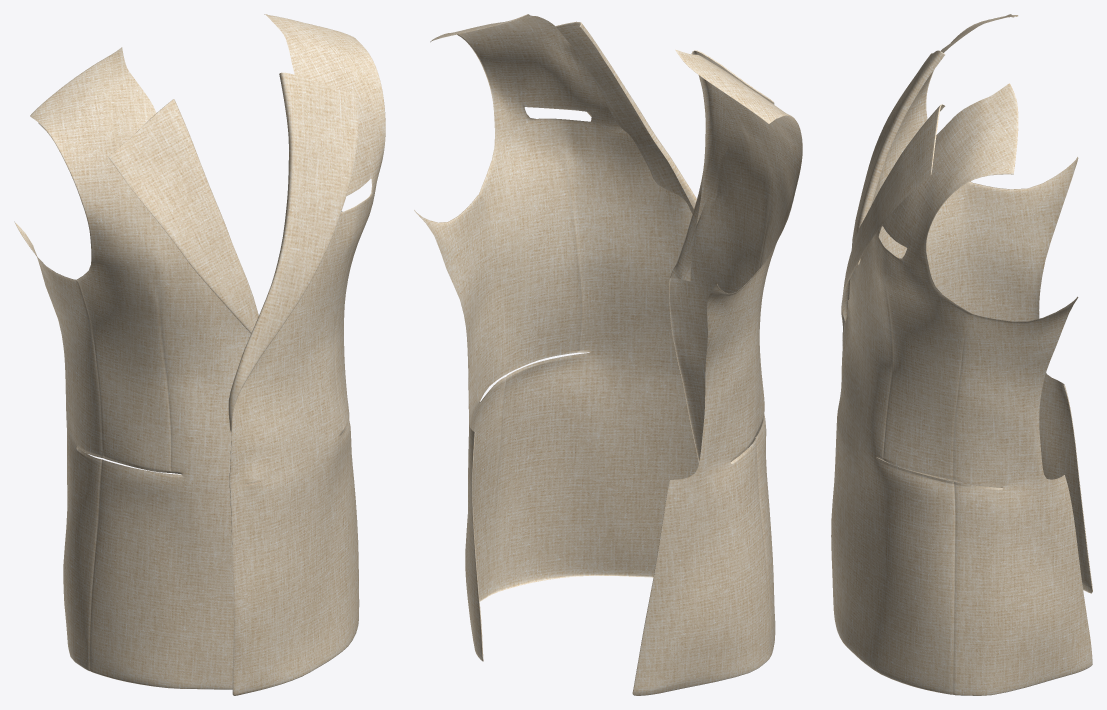
File: noch_double_breasted_wide.glb
The picture shows the model from 3 angles, left to right: view 1: azimuth 30°, elevation 25°; view 2: azimuth 150°, elevation 25°; view 3: azimuth 270°, elevation 25°; orthographic projection. The views are drawn at different scales.
Parts seen in each view (by area): view 1: noch_double_breasted_wide; view 2: noch_double_breasted_wide; view 3: noch_double_breasted_wide.
Part boxes in pixels (x1,y1,x2,y2): noch_double_breasted_wide: (14,14,385,695); noch_double_breasted_wide: (414,14,802,695); noch_double_breasted_wide: (831,14,1092,695).
Size of the model in its own units: 0.0585 by 0.1017 by 0.0414.
2 materials, 1 textured.
